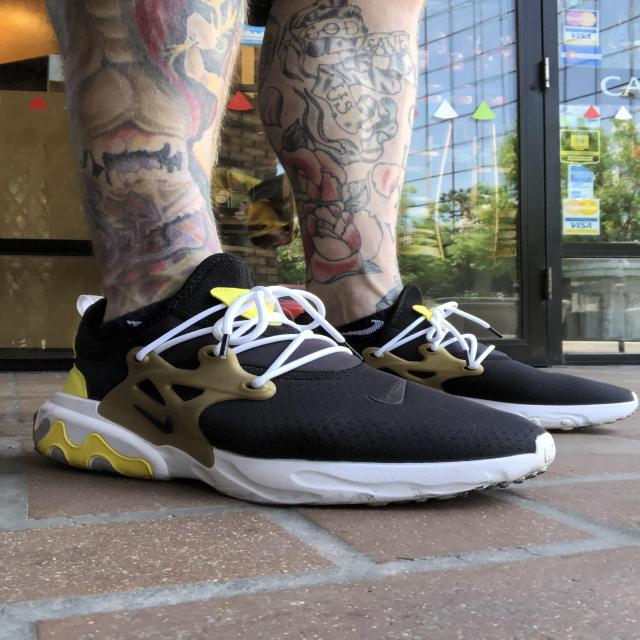shoe: (11, 244, 562, 520), (295, 280, 640, 446)
